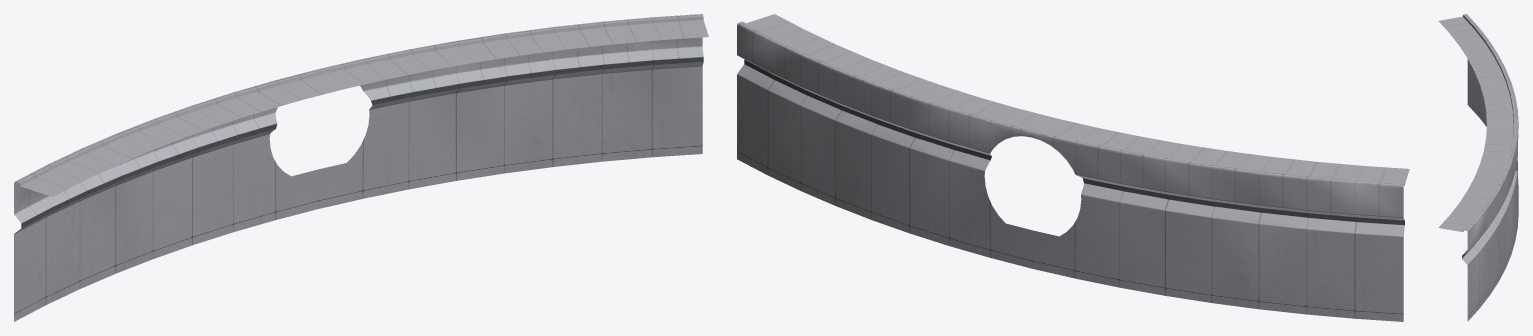
The model's file is OuterWallGate.dae.
The picture shows the model from 3 angles, left to right: view 1: azimuth 30°, elevation 25°; view 2: azimuth 150°, elevation 25°; view 3: azimuth 270°, elevation 25°; orthographic projection. The views are drawn at different scales.
Visible parts, largest first — view 1: OuterWallGate; view 2: OuterWallGate; view 3: OuterWallGate.
Part boxes in pixels (<box>): OuterWallGate: <box>14,14,708,321</box>; OuterWallGate: <box>737,14,1409,321</box>; OuterWallGate: <box>1438,14,1518,321</box>.
Bounding box in the file's own units: 79.64 × 12.48 × 15.54.
Materials: 1 (1 with a texture image).
